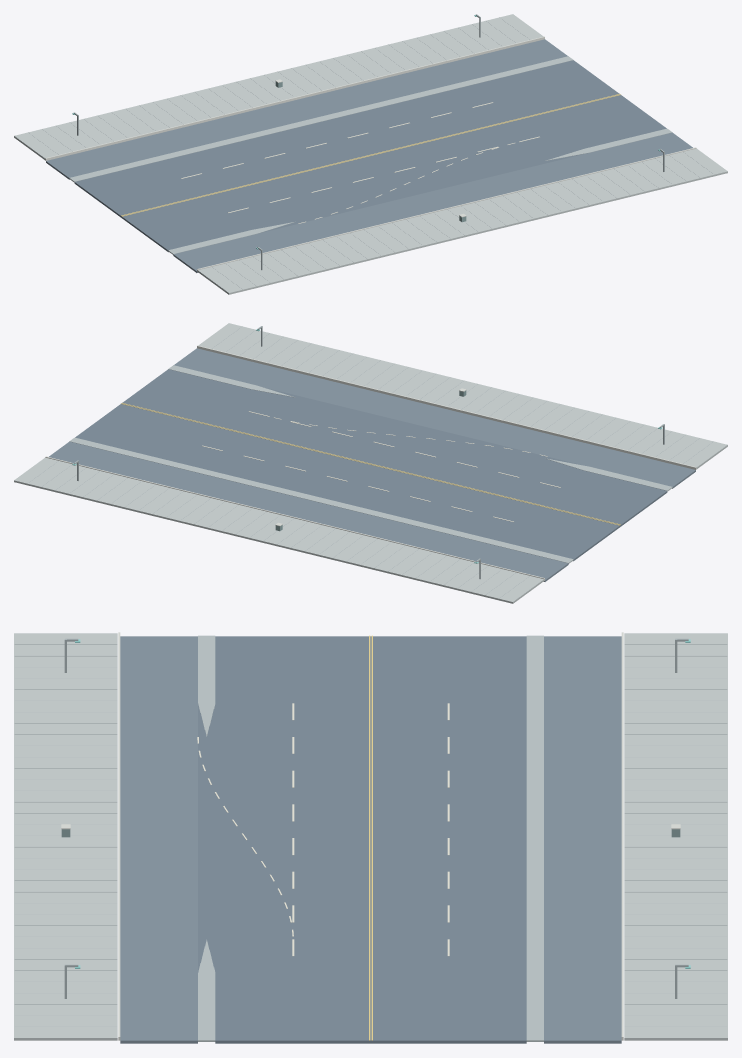
The model's file is city-w59-s78.glb.
3 views of the same model, one above another, from view 1: azimuth 30°, elevation 25°; view 2: azimuth 150°, elevation 25°; view 3: azimuth 270°, elevation 25° (orthographic). The views are drawn at different scales.
Visible parts, largest first — view 1: Main_road, Sidewalk, Frontage_roads, Medians, Curbs, Paving_joints, Merge_surface, Center_lines, Lane_markings; view 2: Main_road, Sidewalk, Frontage_roads, Medians, Curbs, Paving_joints, Merge_surface, Center_lines, Lane_markings; view 3: Main_road, Sidewalk, Frontage_roads, Medians, Paving_joints, Merge_surface, Curbs, Center_lines, Lane_markings.
Boxes of the visible parts, <box> form: Main_road: <box>74,60,666,252</box>; Sidewalk: <box>14,14,727,294</box>; Frontage_roads: <box>46,39,692,272</box>; Medians: <box>69,56,672,254</box>; Curbs: <box>45,36,696,271</box>; Paving_joints: <box>15,17,713,292</box>; Merge_surface: <box>258,150,586,233</box>; Center_lines: <box>121,94,620,216</box>; Lane_markings: <box>181,102,539,213</box>; Main_road: <box>75,369,667,561</box>; Sidewalk: <box>14,323,727,603</box>; Frontage_roads: <box>49,348,695,581</box>; Medians: <box>69,365,672,563</box>; Curbs: <box>45,345,696,580</box>; Paving_joints: <box>28,326,726,601</box>; Merge_surface: <box>256,387,581,469</box>; Center_lines: <box>121,403,620,525</box>; Lane_markings: <box>202,411,560,522</box>; Main_road: <box>215,636,526,1043</box>; Sidewalk: <box>14,633,727,1040</box>; Frontage_roads: <box>120,636,621,1043</box>; Medians: <box>198,635,543,1041</box>; Paving_joints: <box>14,633,727,1026</box>; Merge_surface: <box>198,704,215,972</box>; Curbs: <box>118,632,623,1040</box>; Center_lines: <box>369,635,372,1040</box>; Lane_markings: <box>292,703,449,956</box>.
Size of the model in its own units: 72 by 3.26 by 53.7.
